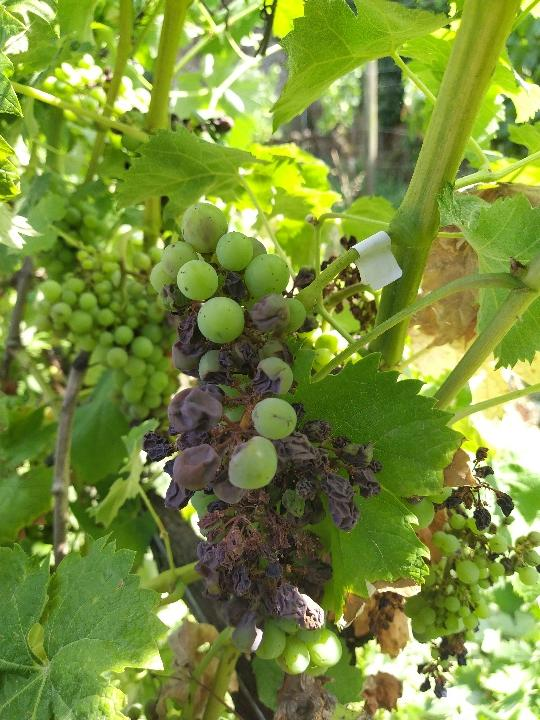grape: (139, 200, 382, 678)
